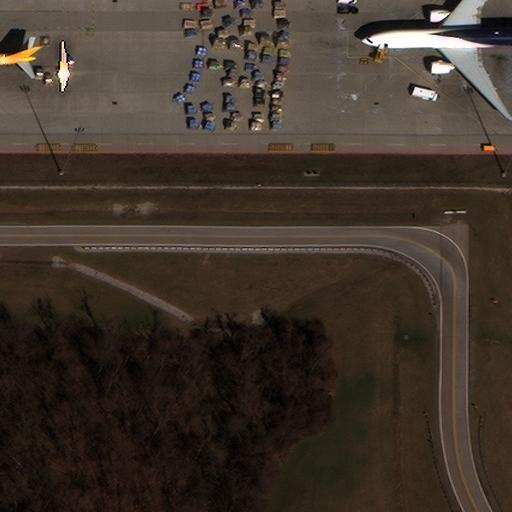Large Civil Transport: (360, 0, 511, 117), (0, 31, 36, 87)
